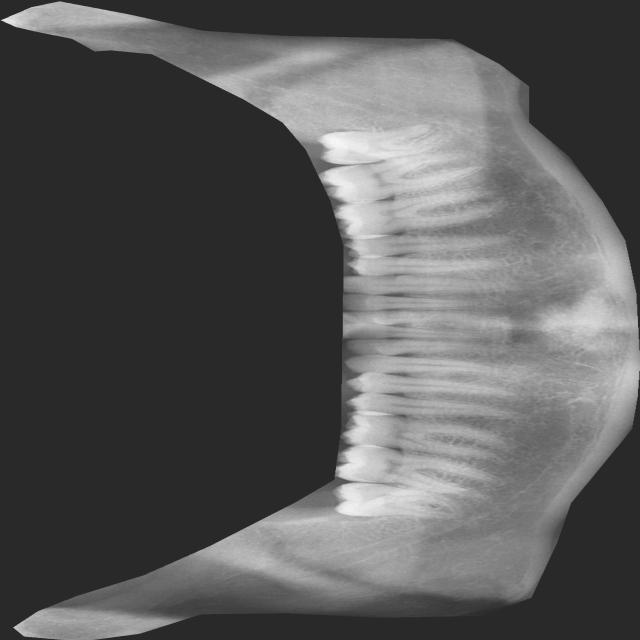mandibula: (1, 0, 640, 640)
